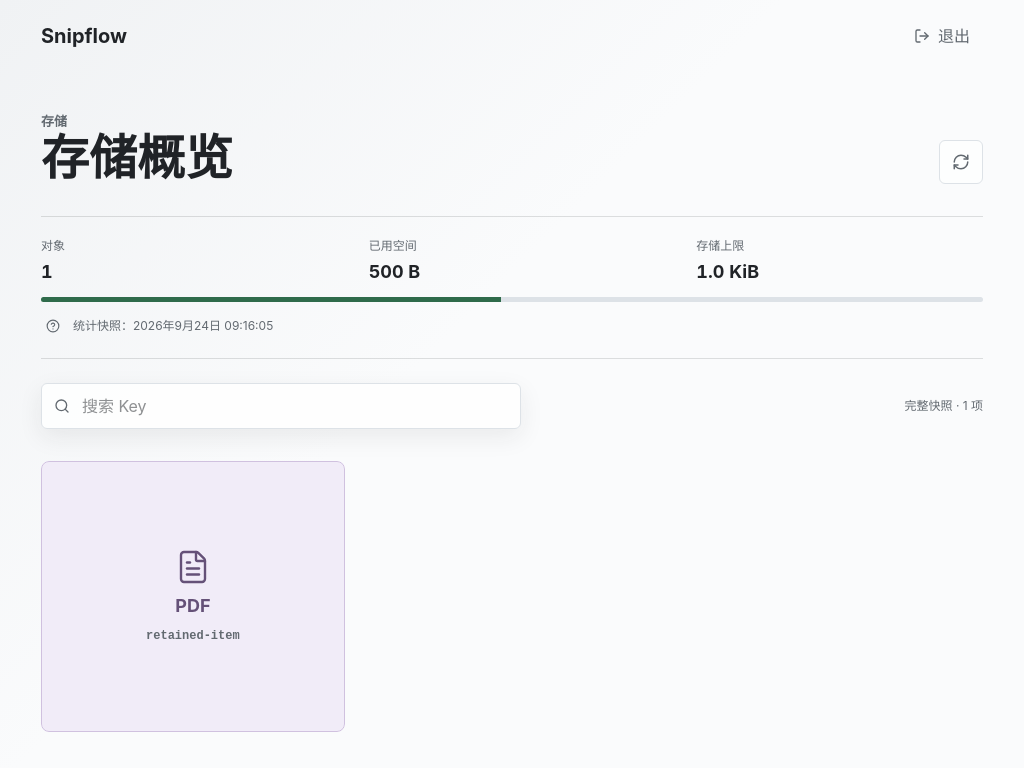
dashboard snapshot workflow › retains a complete snapshot when a manual refresh fails
Expected: the text "完整快照 · 1 项" is shown, [905,398,983,413]
Click the button named "刷新存储快照". click: (961, 162)
box: [939,140,983,184]
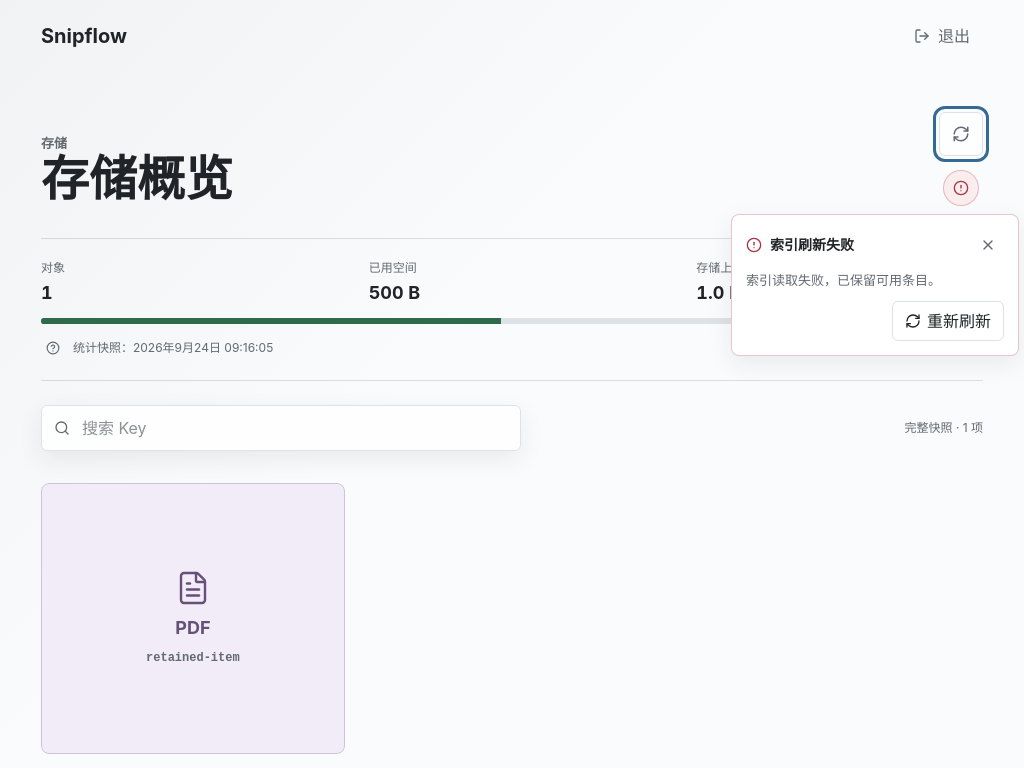
Expected: the button with aria-label "打开retained.pdf详情" is shown, [41,483,345,754]
Now the text "索引读取失败，已保留可用条目。" is shown, box [746,272,941,288]
